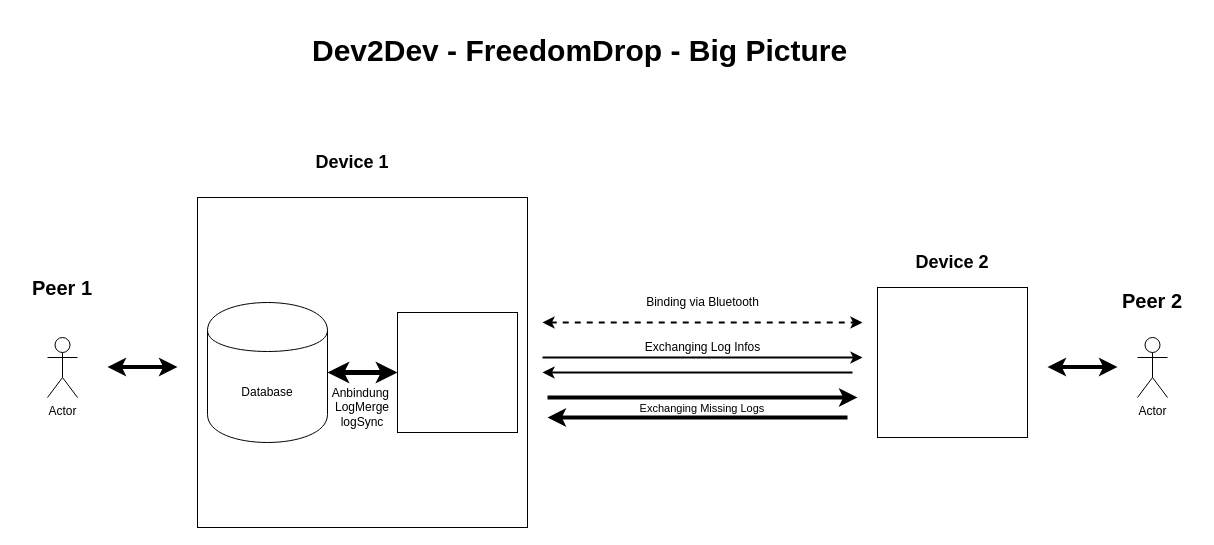
Image size: 1214x545. Some labels were removed from this diagram. The shapes that lost their labels are listed below. From the top down, each one's box as (x1, y1, x2, y2) in pixels, then its label:
(396, 312, 518, 432): Identifying difference in Log Database
(876, 286, 1028, 438): Mirroring Device 1 (not displayed)
